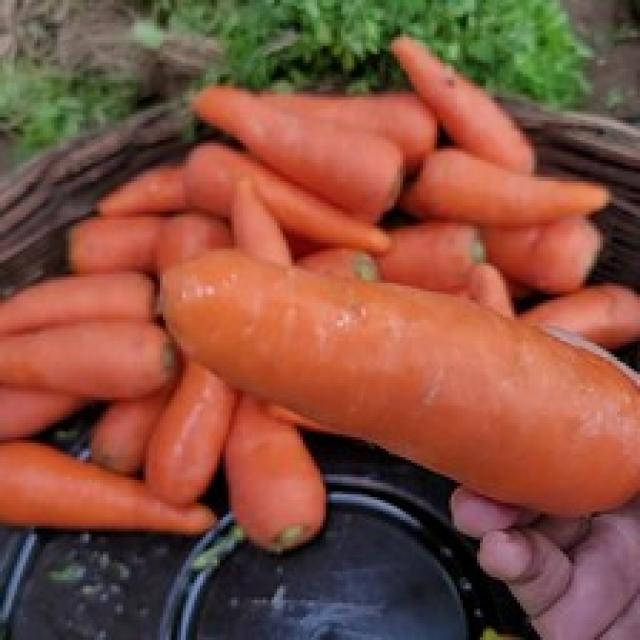Fresh_Carrot: (172, 255, 636, 520), (209, 68, 394, 224), (0, 437, 200, 539), (402, 160, 612, 239), (2, 319, 174, 397)
